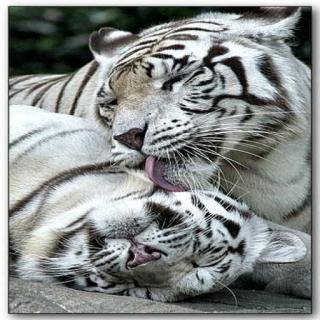Tiger: (10, 2, 320, 204), (14, 89, 293, 292)
